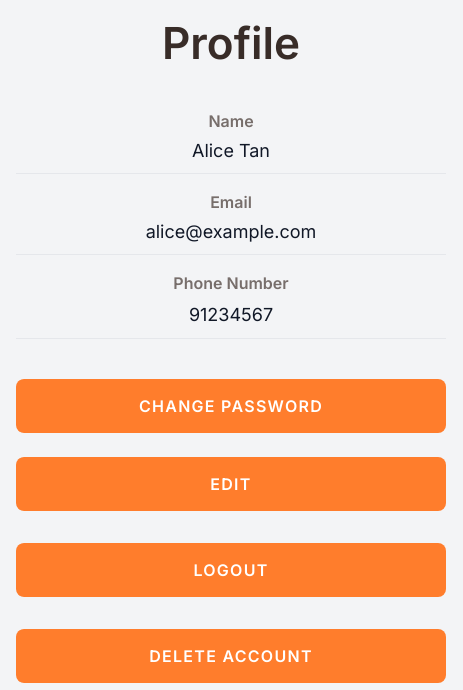
Profile Page › shows error and stays in edit mode if update fails
Expected: the text "Profile" is shown, [162,16,300,70]
Click the button "Edit" at (231, 484), box [16,457,446,511]
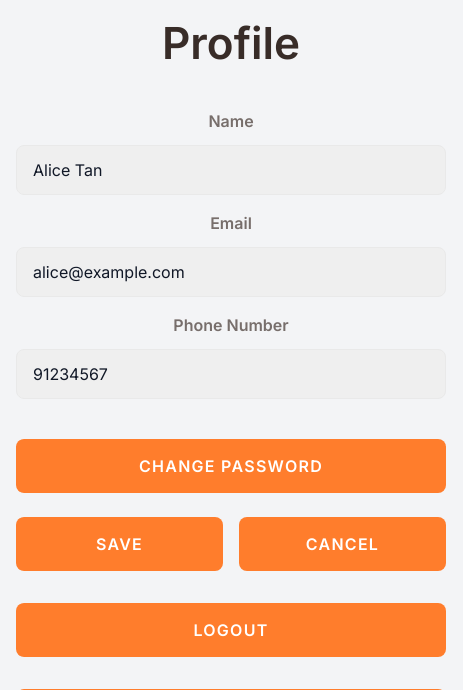
Click the button "Save" at (120, 544), box [16,517,223,571]
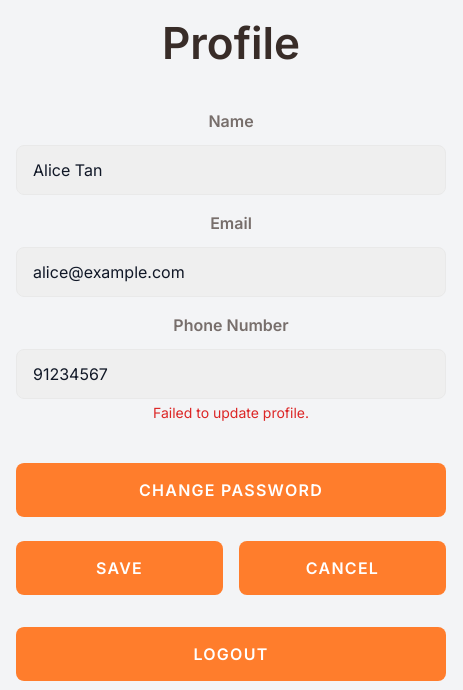
Now the button "Save" is shown, box [16,541,223,595]
Now the text "Failed to update profile." is shown, box [153,404,309,421]
